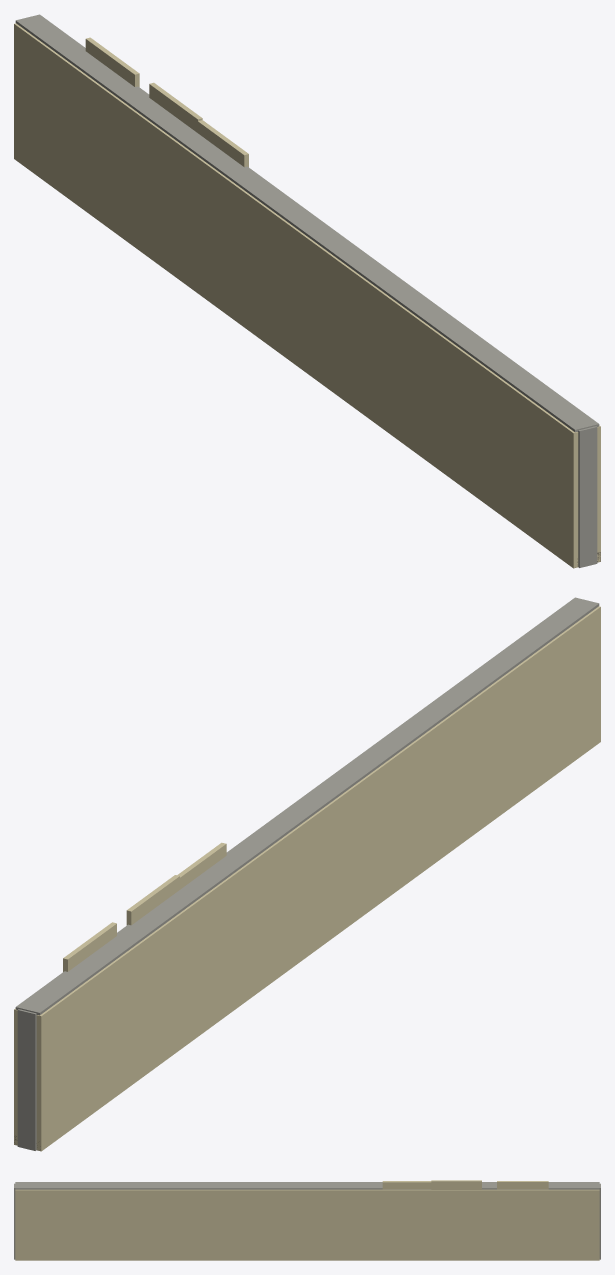
Rendered from casino_wall_ns.glb.
The picture shows the model from 3 angles, top to bottom: view 1: azimuth 30°, elevation 25°; view 2: azimuth 150°, elevation 25°; view 3: azimuth 270°, elevation 25°; orthographic projection. The views are drawn at different scales.
Parts seen in each view (by area): view 1: dry_back, cut, stud_0, rag_1, rag_2, rag_0; view 2: dry_back, cut, stud_20, rag_2, rag_1, rag_0; view 3: dry_face, cut, rag_0, rag_2, rag_1, stud_0, stud_20.
Boxes of the visible parts, x1,y1,x2,y2 form: dry_back: [14, 23, 578, 568]; cut: [15, 14, 599, 432]; stud_0: [578, 426, 597, 567]; rag_1: [85, 37, 139, 86]; rag_2: [149, 82, 202, 132]; rag_0: [192, 117, 248, 167]; dry_back: [36, 606, 600, 1151]; cut: [15, 597, 599, 1015]; stud_20: [17, 1009, 36, 1150]; rag_2: [126, 875, 179, 925]; rag_1: [63, 922, 116, 971]; rag_0: [174, 842, 226, 893]; dry_face: [15, 1189, 599, 1260]; cut: [15, 1182, 599, 1189]; rag_0: [382, 1181, 437, 1189]; rag_2: [431, 1180, 481, 1189]; rag_1: [497, 1181, 548, 1189]; stud_0: [14, 1183, 15, 1259]; stud_20: [599, 1183, 600, 1259].
Bounding box in the file's own units: 0.34 × 1.8 × 12.05.
